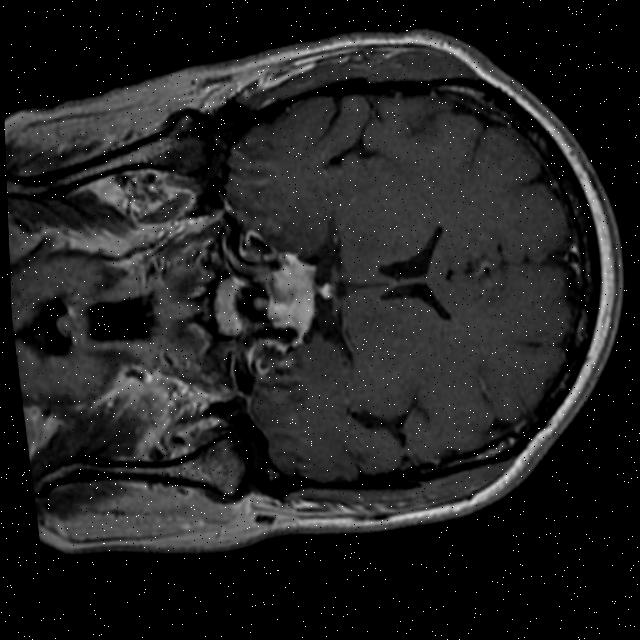Pituitary: (247, 256, 327, 341)
